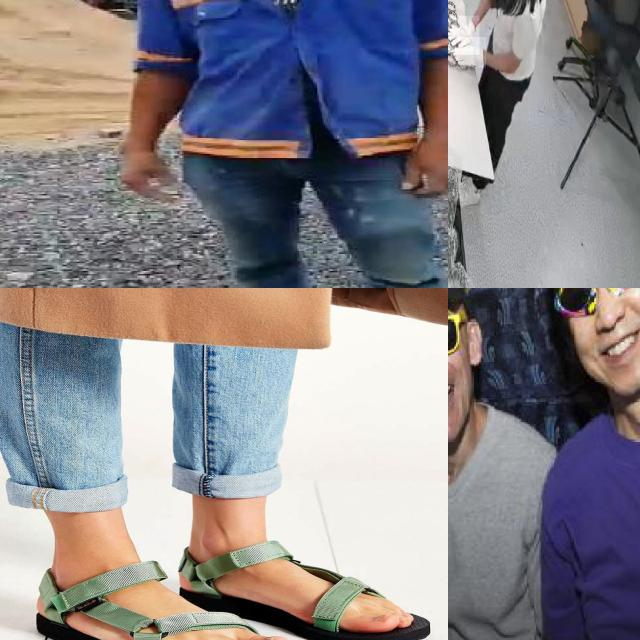Sandals: (177, 515, 431, 640), (34, 536, 302, 640)
face_nomask: (555, 288, 640, 366), (448, 326, 476, 423)
glasses: (548, 288, 640, 320), (448, 315, 467, 371)
hand_glove: (448, 15, 479, 54), (452, 37, 487, 69)
hand_noglove: (110, 142, 184, 208), (395, 136, 448, 200)
person: (111, 0, 448, 288), (520, 288, 640, 640), (448, 288, 556, 640), (456, 0, 544, 186)
shoes: (454, 172, 482, 211)
